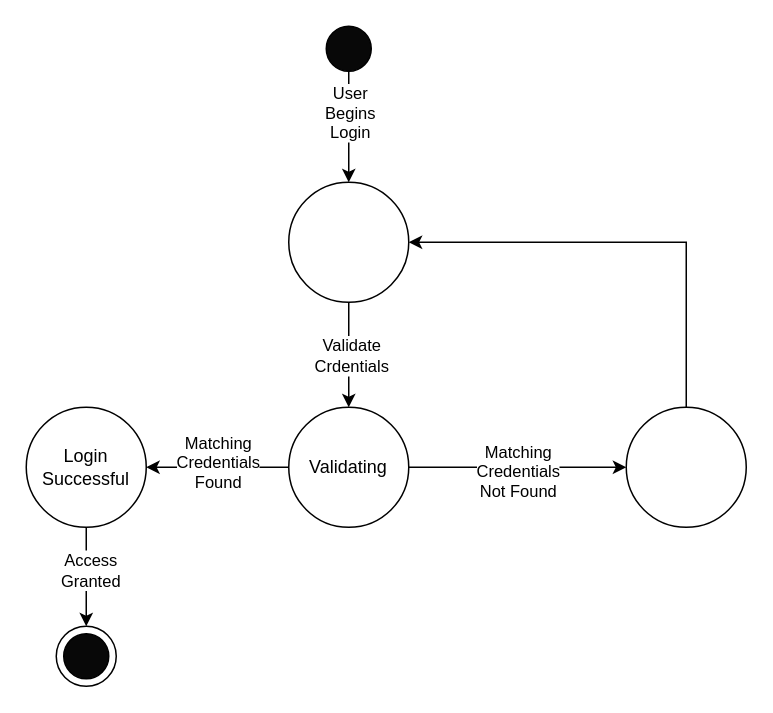
Some shapes in this 773 by 713 pixel diagram are drawn without their labels. Each missing label, with the centre of its shape:
Enter Credentials: [348,241]
Login Failed: [685,466]
